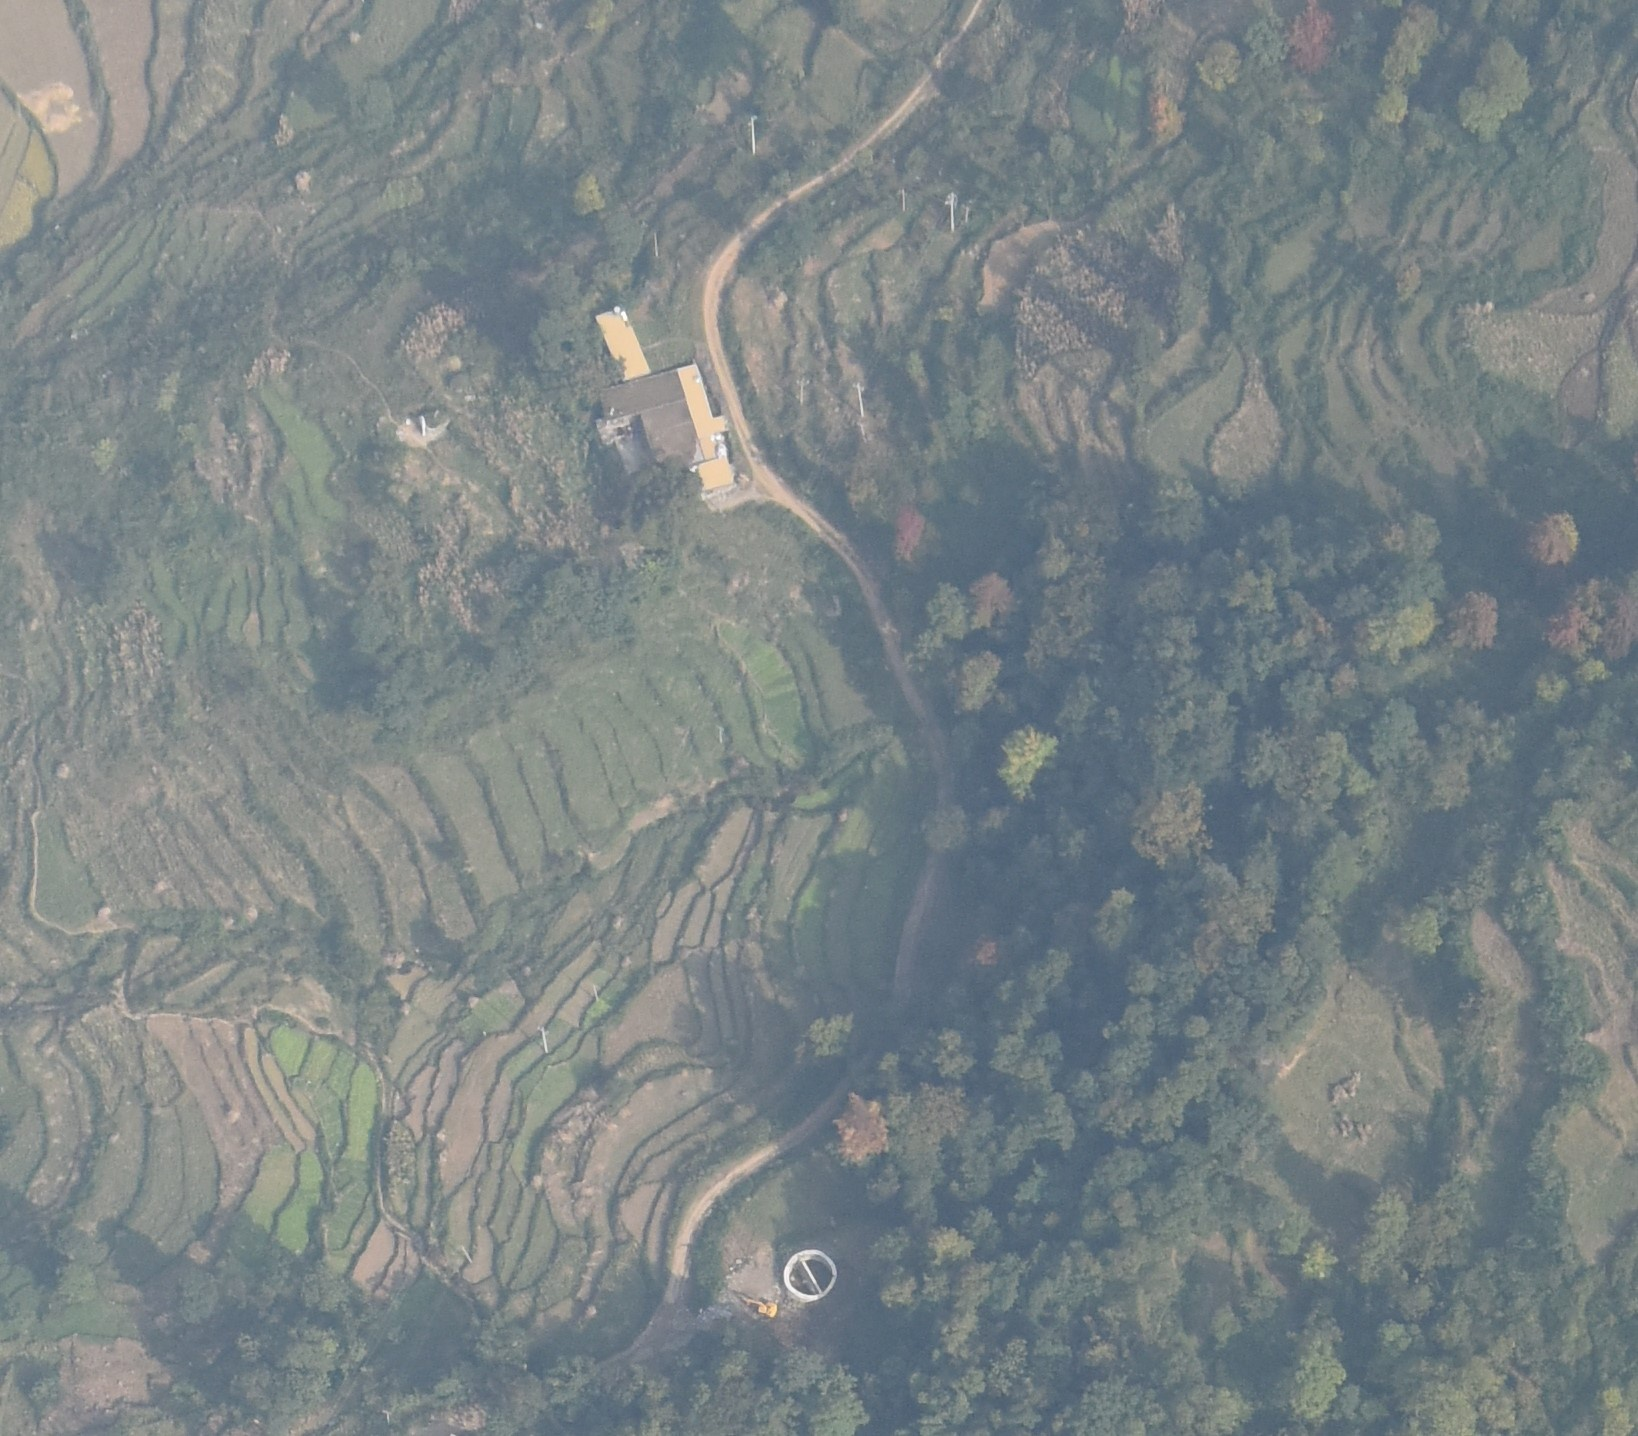building: (600, 358, 734, 492), (598, 305, 650, 382)
cable-tower: (944, 191, 960, 233), (747, 114, 756, 156), (536, 1027, 550, 1054), (795, 377, 809, 405), (852, 383, 864, 416), (897, 189, 907, 210), (591, 982, 599, 1001), (962, 203, 969, 221)
